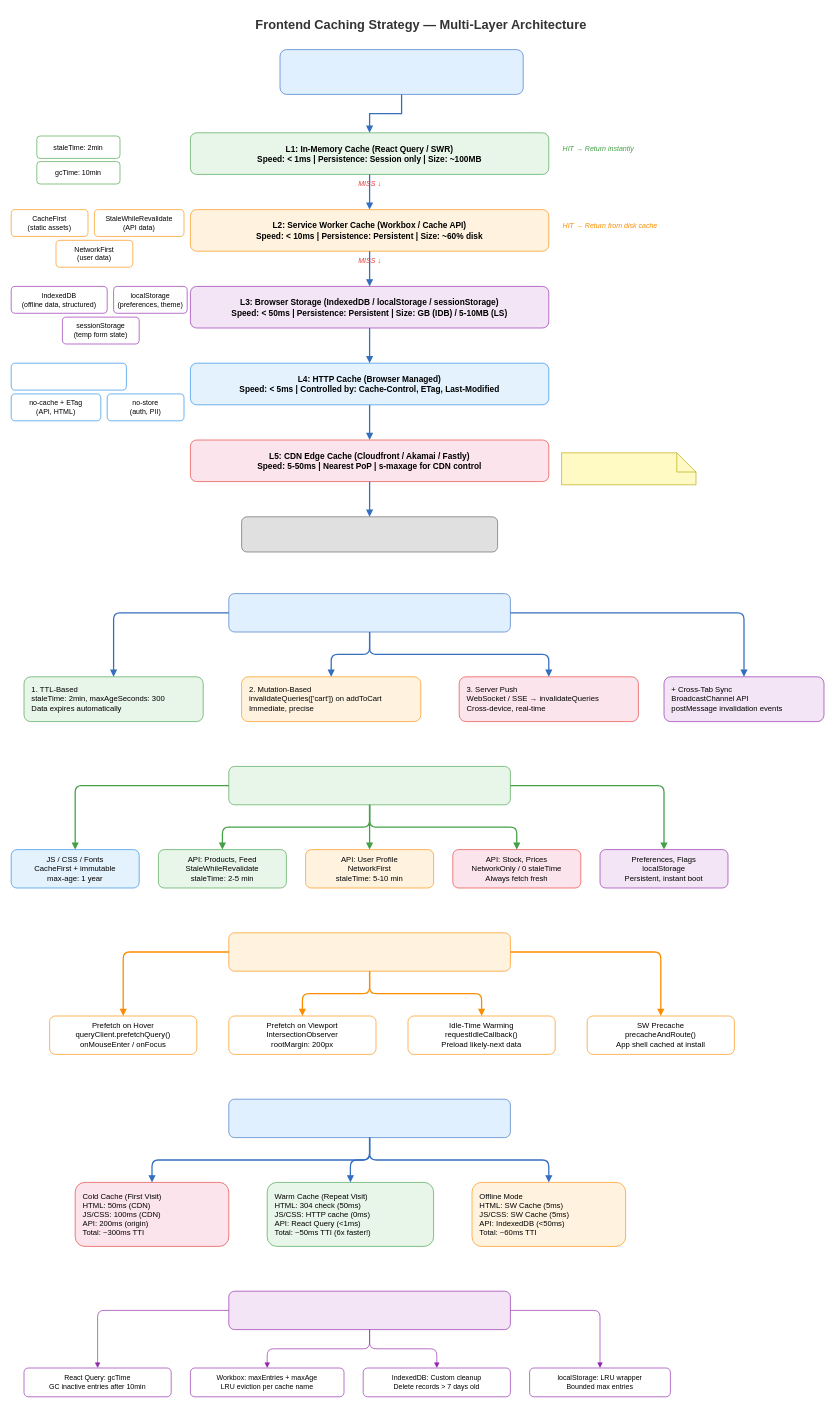
The diagram is 835 pixels wide and 1408 high, and some of its shapes have lost their labels. Each missing label, with the centre of its shape:
"Cache Eviction Strategies" belongs at point 369,1310.
"Cache Invalidation Patterns" belongs at point 369,612.
"Cache Strategy by Data Type" belongs at point 369,785.
"Cache Warming and Prefetching" belongs at point 369,951.
"immutable + max-age=1yr (hashed static assets)" belongs at point 68,376.
"Origin Server (API Backend) Last resort — full network round trip" belongs at point 369,534.
"Performance Impact" belongs at point 369,1118.
"Response flows back ↑ Each layer caches on the way up" belongs at point 628,468.
"UI Component useQuery(['products', { page: 1 }])" belongs at point 401,71.
